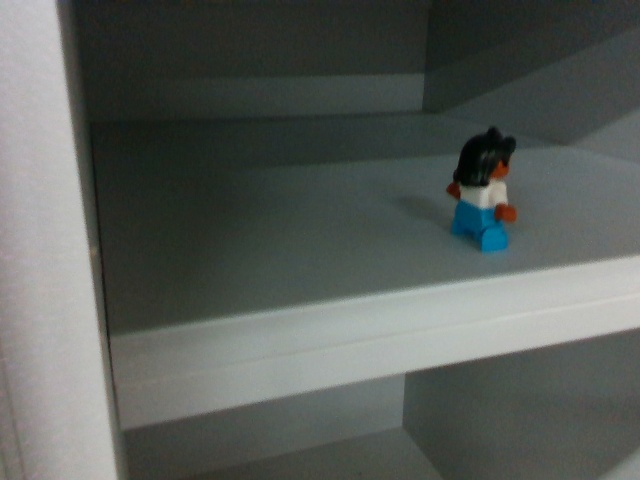people: (441, 120, 517, 255)
